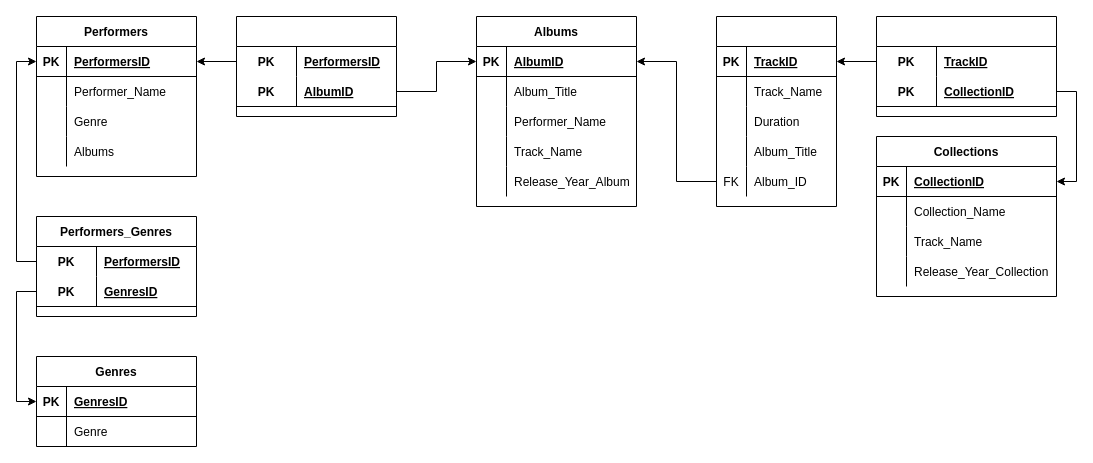
This 1093x463 diagram has some shape labels left out. Each missing label, with the box of its shape:
Performers_Albums: (236, 16, 396, 116)
Tracks: (716, 16, 836, 206)
Tracks_Collections: (876, 16, 1056, 116)
